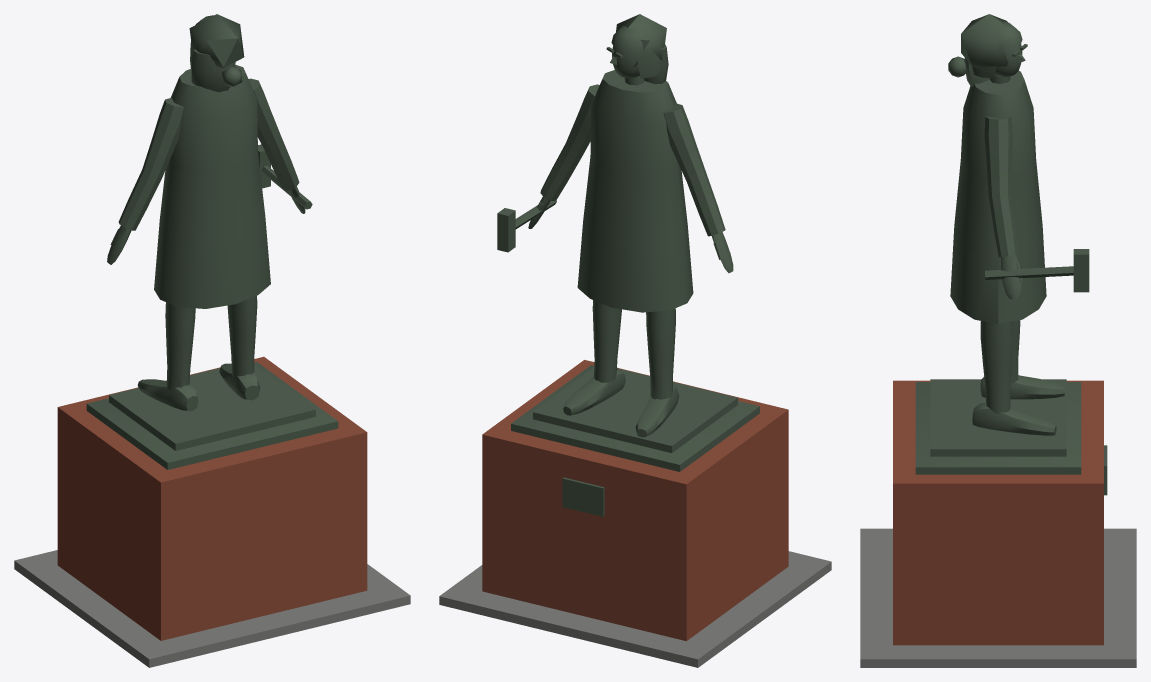
File: mon_truemmerfrau.glb
The picture shows the model from 3 angles, left to right: view 1: azimuth 30°, elevation 25°; view 2: azimuth 150°, elevation 25°; view 3: azimuth 270°, elevation 25°; orthographic projection. The views are drawn at different scales.
Visible parts, largest first — view 1: mon_truemmerfrau; view 2: mon_truemmerfrau; view 3: mon_truemmerfrau.
Boxes of the visible parts, bbox=[...] form: mon_truemmerfrau: bbox=[14, 14, 410, 667]; mon_truemmerfrau: bbox=[439, 14, 831, 667]; mon_truemmerfrau: bbox=[860, 14, 1136, 667].
Bounding box in the file's own units: 1.9 × 4 × 1.7.
